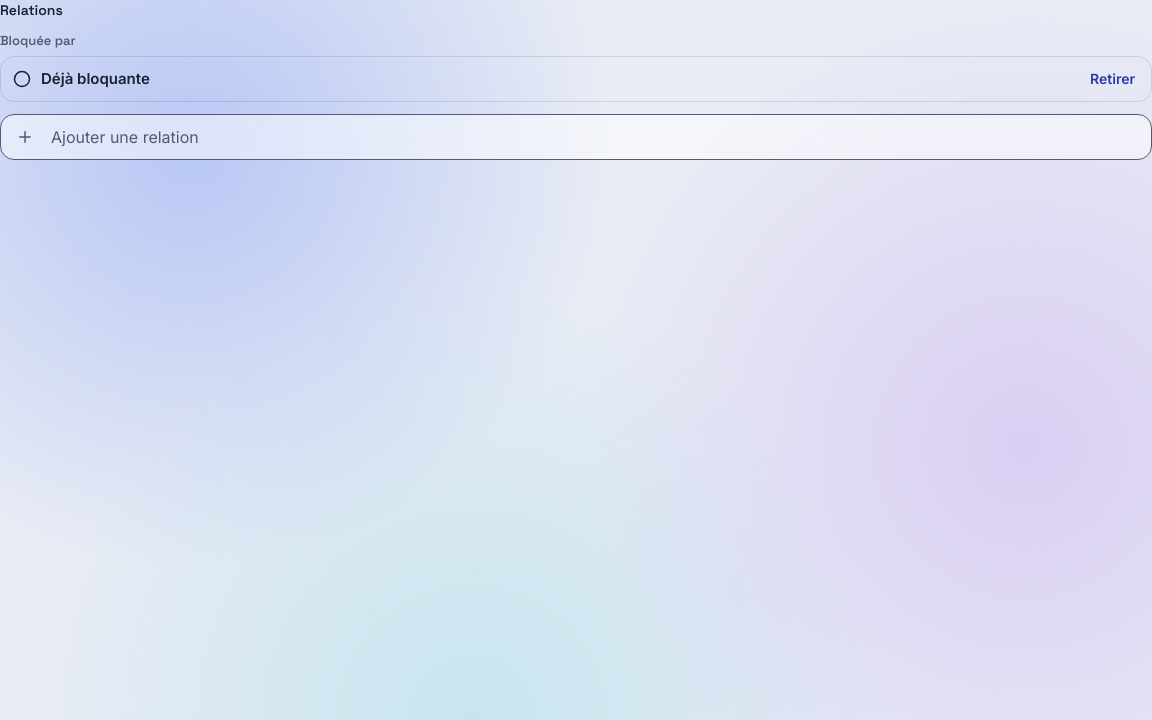
Scenario: section « Relations » du détail › changer de type relit la liste avec les nouvelles exclusions
Click the button "Ajouter une relation" at [125, 137], box [0, 114, 1151, 160]
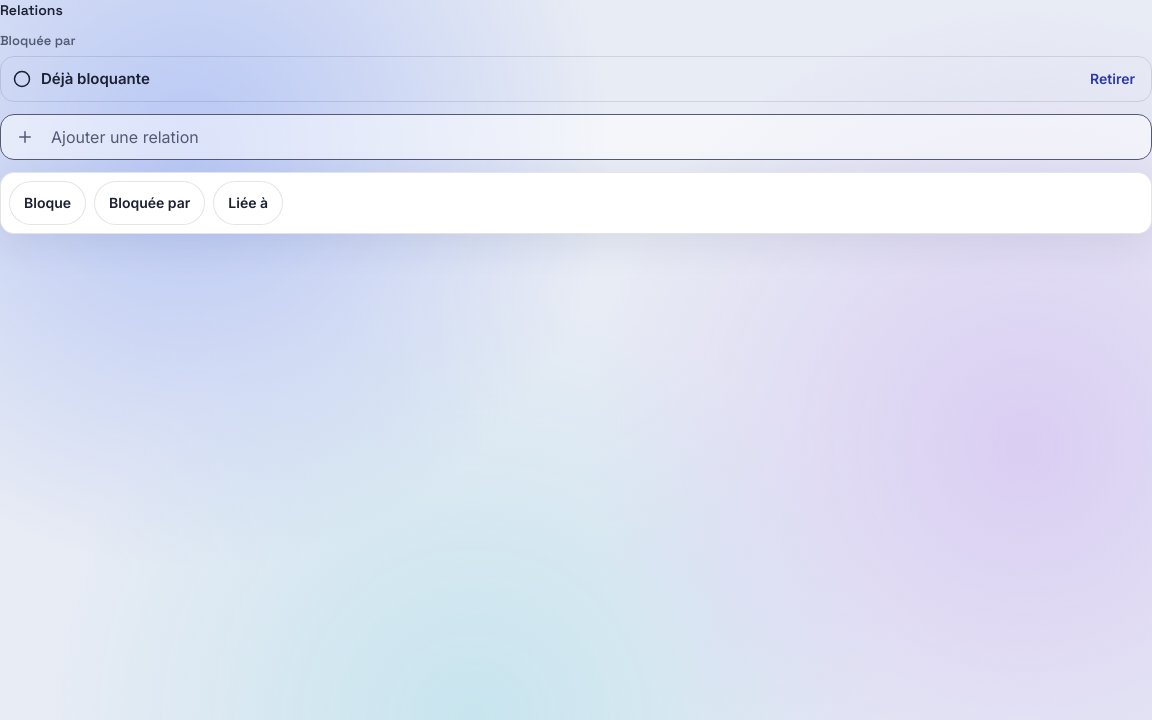
Click the button "Bloquée par" at [150, 204], box [94, 182, 205, 226]
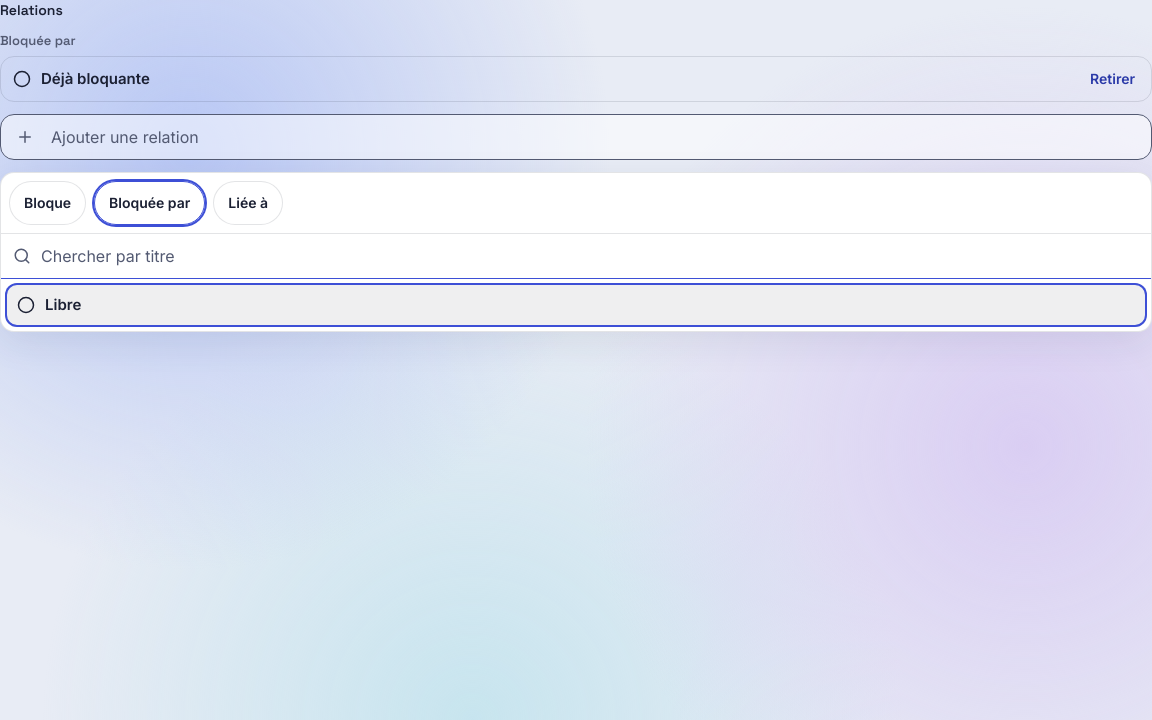
Expected: the text "Libre" is shown, [45, 294, 81, 317]
Click the button "Liée à" at [248, 204], box [213, 182, 283, 226]
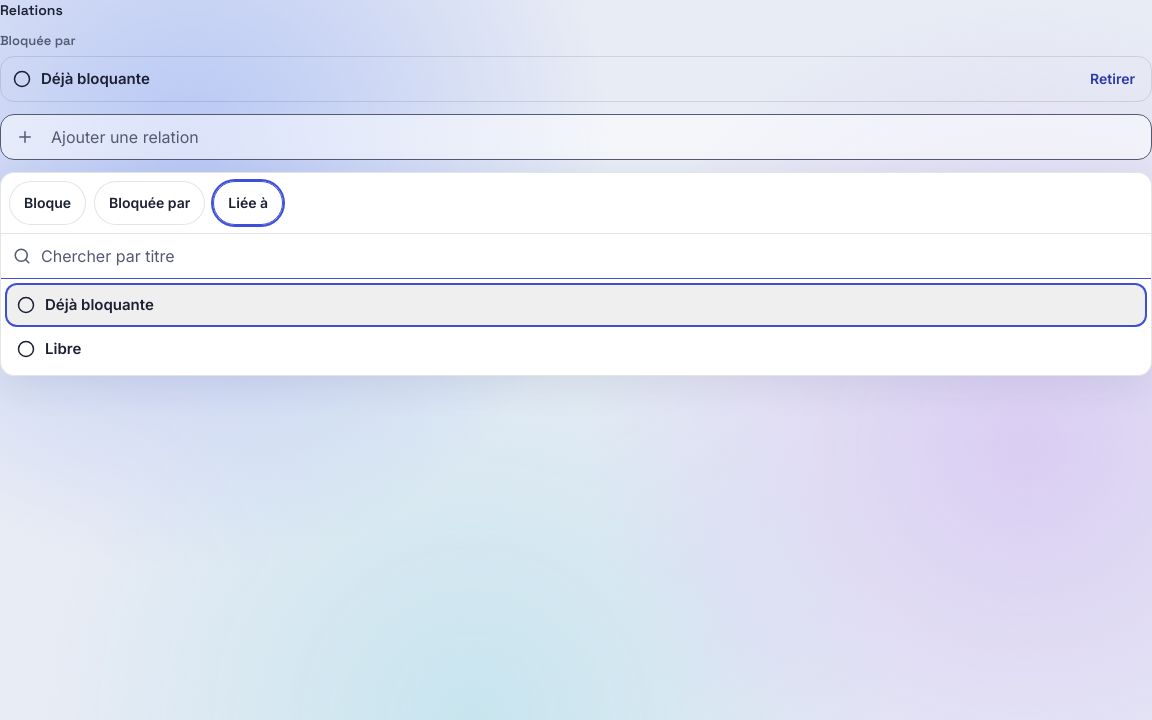
Expected: the 2nd text "Déjà bloquante" is shown, [45, 294, 154, 317]
